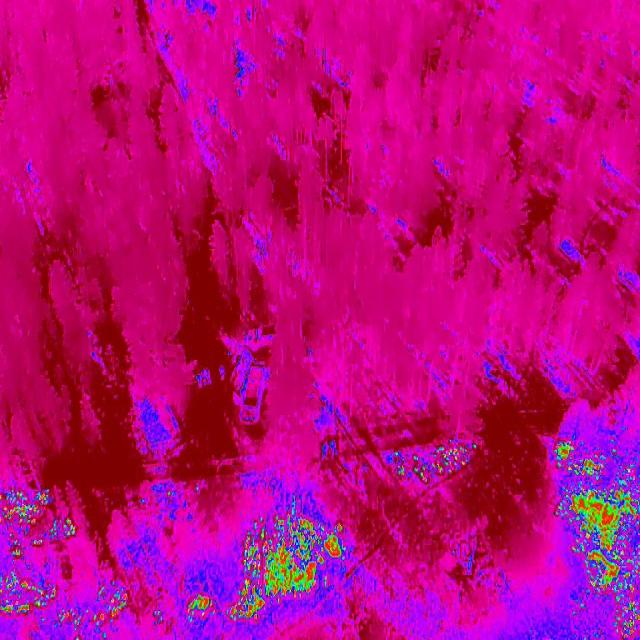fire: (554, 426, 640, 640), (222, 506, 356, 625), (0, 484, 77, 624), (388, 433, 480, 483), (55, 584, 134, 640), (180, 592, 216, 630)
